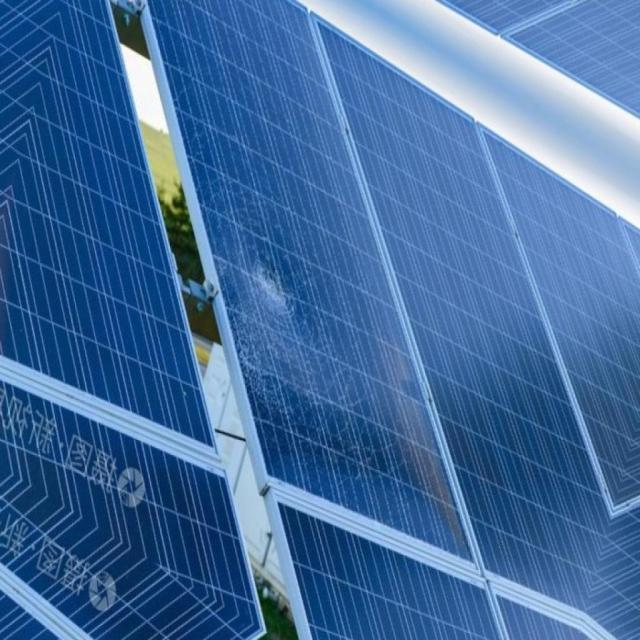cracked: (138, 1, 464, 554)
